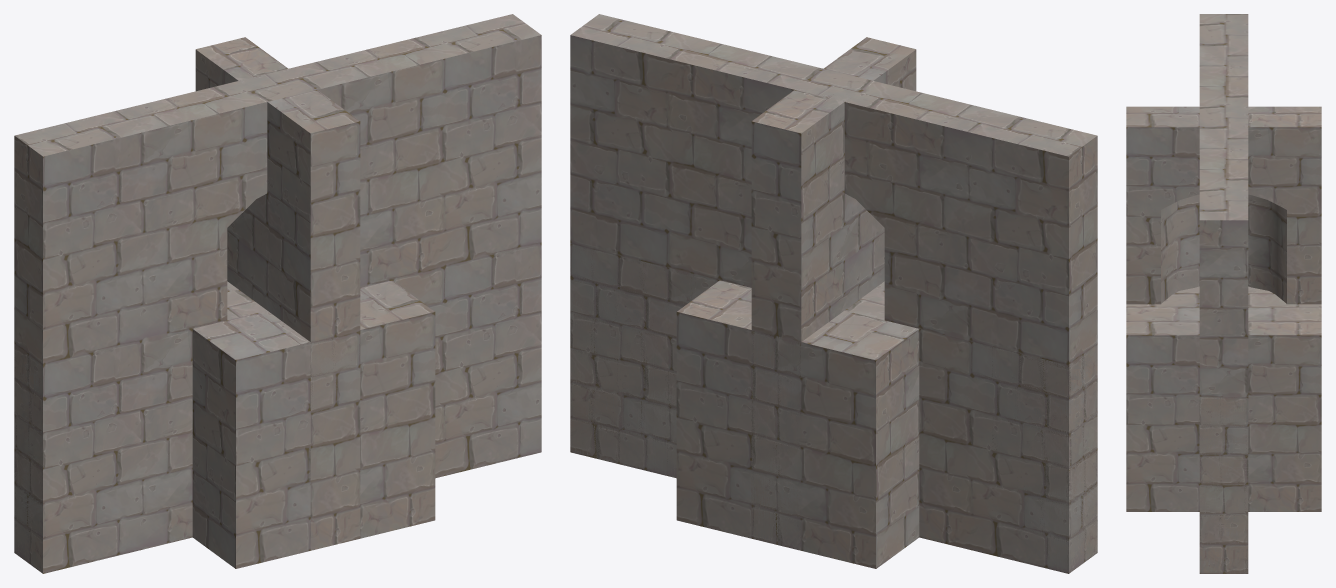
The model's file is SM_Modules_Wall_v02.fbx.
The picture shows the model from 3 angles, left to right: view 1: azimuth 30°, elevation 25°; view 2: azimuth 150°, elevation 25°; view 3: azimuth 270°, elevation 25°; orthographic projection. The views are drawn at different scales.
Parts seen in each view (by area): view 1: Module_Thin_Traversable_Wall, Module_Thin_Wall, Module_BLOCK_Wall, Module_Inner_Wall; view 2: Module_Thin_Traversable_Wall, Module_Thin_Wall, Module_BLOCK_Wall, Module_Inner_Wall; view 3: Module_BLOCK_Wall, Module_Inner_Wall, Module_Thin_Traversable_Wall, Module_Thin_Wall.
Part boxes in pixels (x1=…): Module_Thin_Traversable_Wall: x1=14, y1=14, x2=541, y2=573; Module_Thin_Wall: x1=14, y1=243, x2=541, y2=573; Module_BLOCK_Wall: x1=192, y1=280, x2=435, y2=568; Module_Inner_Wall: x1=195, y1=37, x2=360, y2=550; Module_Thin_Traversable_Wall: x1=570, y1=14, x2=1097, y2=573; Module_Thin_Wall: x1=570, y1=244, x2=1097, y2=573; Module_BLOCK_Wall: x1=676, y1=280, x2=919, y2=568; Module_Inner_Wall: x1=751, y1=37, x2=916, y2=550; Module_BLOCK_Wall: x1=1126, y1=286, x2=1321, y2=511; Module_Inner_Wall: x1=1126, y1=106, x2=1321, y2=304; Module_Thin_Traversable_Wall: x1=1199, y1=14, x2=1248, y2=573; Module_Thin_Wall: x1=1199, y1=397, x2=1248, y2=573.
Bounding box in the file's own units: 500 × 400 × 200.
Materials: 1 (1 with a texture image).
